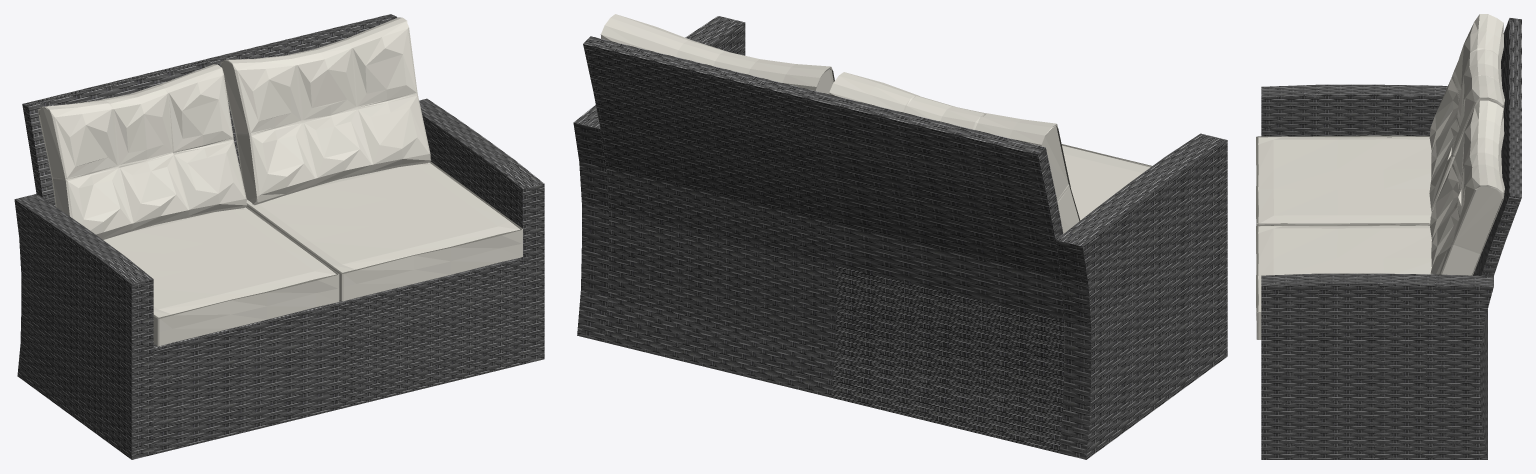
Rendered from sweethome3d-scopia-rattan-sofa.glb.
3 renders of one model, left to right at view 1: azimuth 30°, elevation 25°; view 2: azimuth 150°, elevation 25°; view 3: azimuth 270°, elevation 25°, orthographic. The views are drawn at different scales.
Visible parts, largest first — view 1: sofa_Cube.001, backCushion_Cube.003, backCushion2_Cube.006, baseCushion_Cube.002, baseCushion2_Cube.005; view 2: sofa_Cube.001, backCushion2_Cube.006, backCushion_Cube.003, baseCushion2_Cube.005; view 3: sofa_Cube.001, baseCushion2_Cube.005, baseCushion_Cube.002, backCushion_Cube.003, backCushion2_Cube.006.
Part boxes in pixels (<box>): sofa_Cube.001: <box>14,14,544,459</box>; backCushion_Cube.003: <box>220,17,430,205</box>; backCushion2_Cube.006: <box>38,64,247,239</box>; baseCushion_Cube.002: <box>246,161,522,301</box>; baseCushion2_Cube.005: <box>103,206,339,346</box>; sofa_Cube.001: <box>573,16,1227,459</box>; backCushion2_Cube.006: <box>829,72,1080,233</box>; backCushion_Cube.003: <box>600,14,834,94</box>; baseCushion2_Cube.005: <box>1061,144,1151,220</box>; sofa_Cube.001: <box>1261,18,1521,459</box>; baseCushion2_Cube.005: <box>1256,135,1431,225</box>; baseCushion_Cube.002: <box>1256,224,1431,339</box>; backCushion_Cube.003: <box>1430,100,1504,275</box>; backCushion2_Cube.006: <box>1429,14,1504,214</box>.
Bounding box in the file's own units: 129 × 78.71 × 72.45.
Materials: 3 (1 with a texture image).
